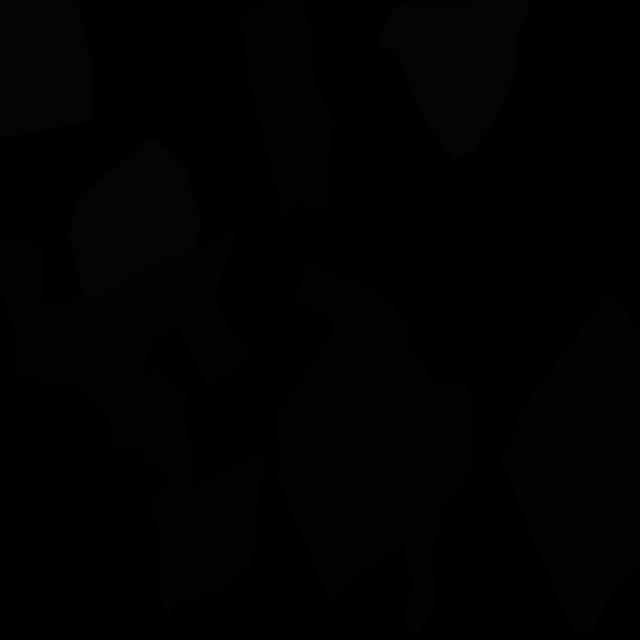cardboard: (275, 259, 474, 639), (0, 227, 252, 451), (498, 292, 640, 638), (143, 419, 265, 618), (240, 1, 334, 218)
soft_plastic: (379, 0, 529, 159), (69, 136, 202, 302), (0, 0, 91, 138)
